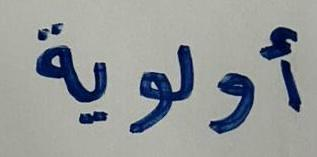hamza: (257, 14, 305, 130)
lam: (174, 35, 196, 118)
teh_marbota: (27, 11, 76, 107)
waw: (198, 51, 256, 135), (117, 57, 172, 135)
yeh: (78, 42, 114, 136)
